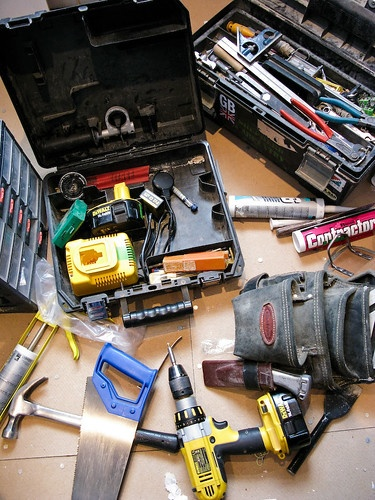hammer: (5, 378, 78, 438)
